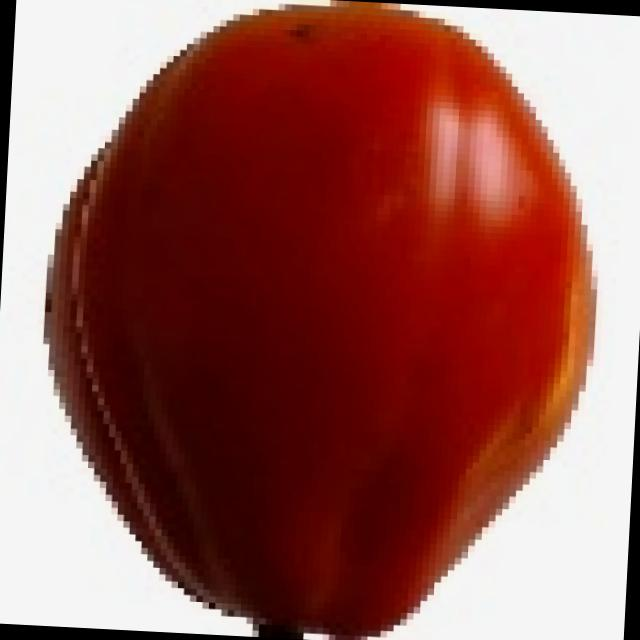tomato: (25, 0, 619, 639)
